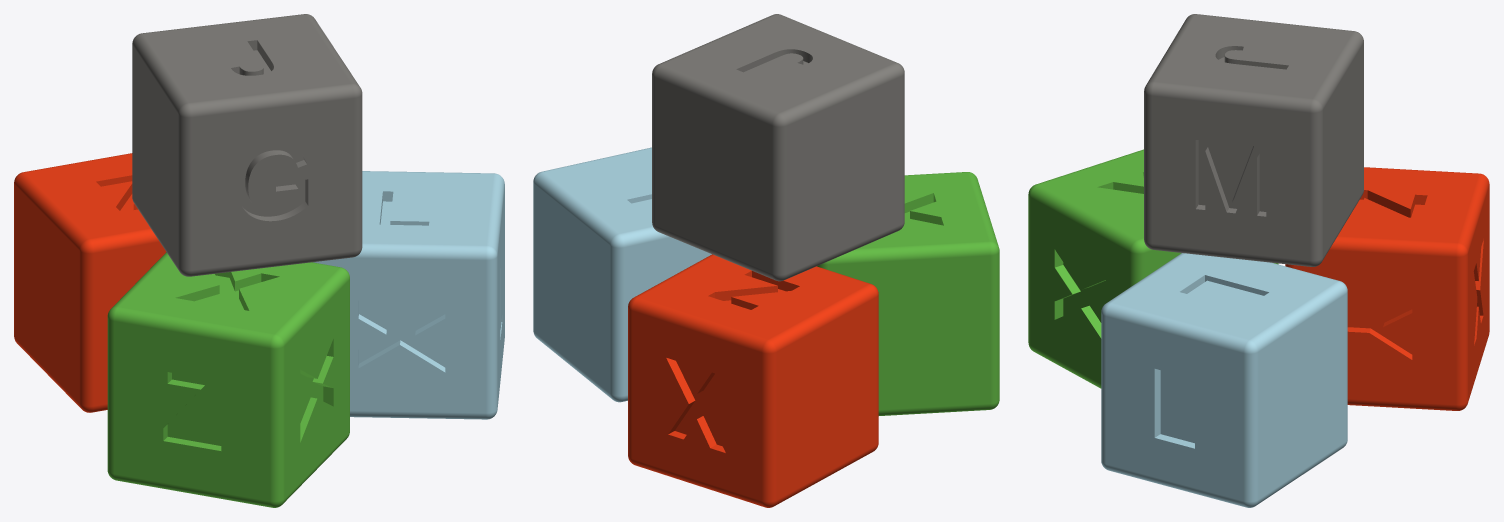
The model's file is toycubes.obj.
The picture shows the model from 3 angles, left to right: view 1: azimuth 30°, elevation 25°; view 2: azimuth 150°, elevation 25°; view 3: azimuth 270°, elevation 25°; orthographic projection. The views are drawn at different scales.
Bounding box in the file's own units: 12.74 × 9.66 × 12.06.
